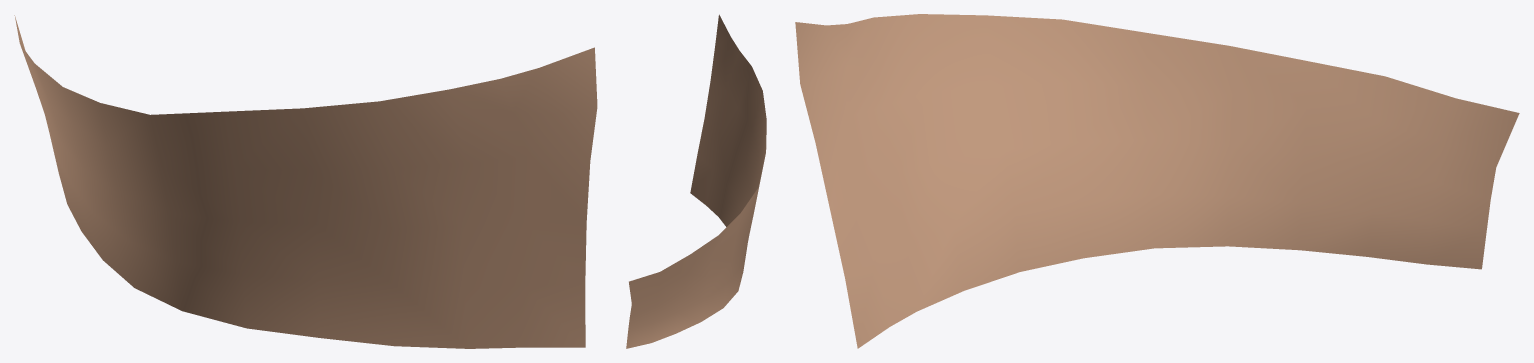
The model's file is hypochondriac-region-r.glb.
The picture shows the model from 3 angles, left to right: view 1: azimuth 30°, elevation 25°; view 2: azimuth 150°, elevation 25°; view 3: azimuth 270°, elevation 25°; orthographic projection. The views are drawn at different scales.
Visible parts, largest first — view 1: Hypochondriac region.r; view 2: Hypochondriac region.r; view 3: Hypochondriac region.r.
Part boxes in pixels (x1=…): Hypochondriac region.r: x1=14, y1=15, x2=597, y2=348; Hypochondriac region.r: x1=626, y1=14, x2=766, y2=348; Hypochondriac region.r: x1=795, y1=14, x2=1519, y2=348.
Size of the model in its own units: 0.0785 by 0.09 by 0.1761.
